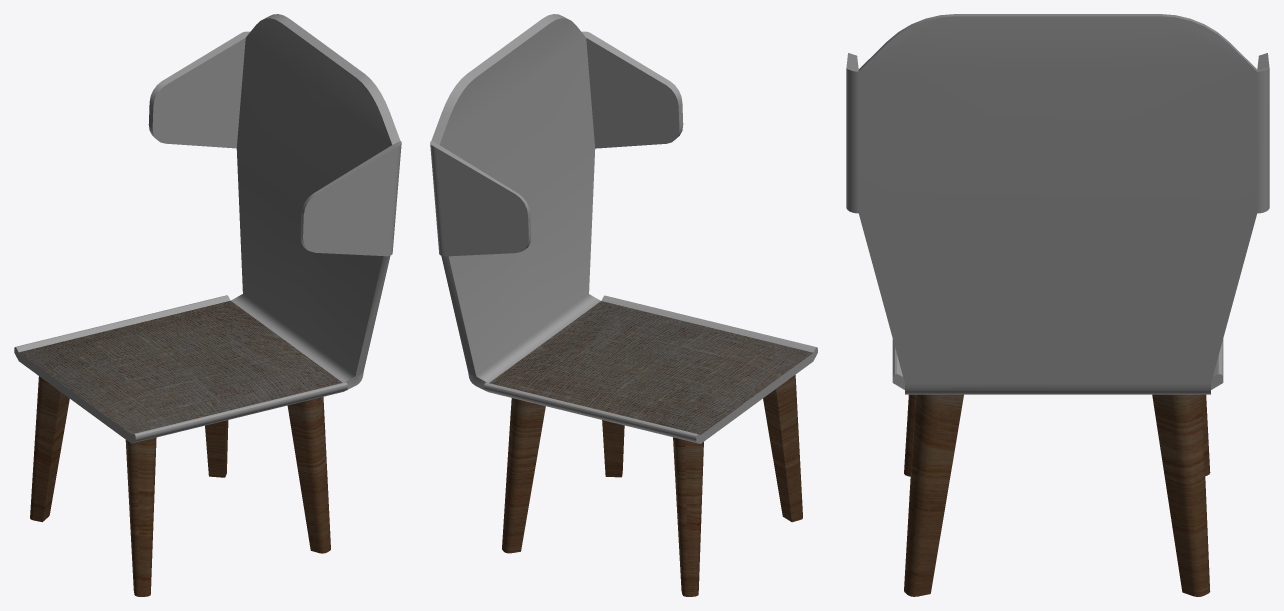
The model's file is Chair Model.fbx.
3 renders of one model, left to right at view 1: azimuth 30°, elevation 25°; view 2: azimuth 150°, elevation 25°; view 3: azimuth 270°, elevation 25°, orthographic. The views are drawn at different scales.
Parts seen in each view (by area): view 1: Chair_Base; view 2: Chair_Base; view 3: Chair_Base.
Part boxes in pixels (left/top/right/bottom): Chair_Base: left=14, top=14, right=401, bottom=596; Chair_Base: left=430, top=14, right=817, bottom=596; Chair_Base: left=846, top=14, right=1269, bottom=596.
Bounding box in the file's own units: 7.02 × 12.01 × 7.51.
1 material, 1 textured.
